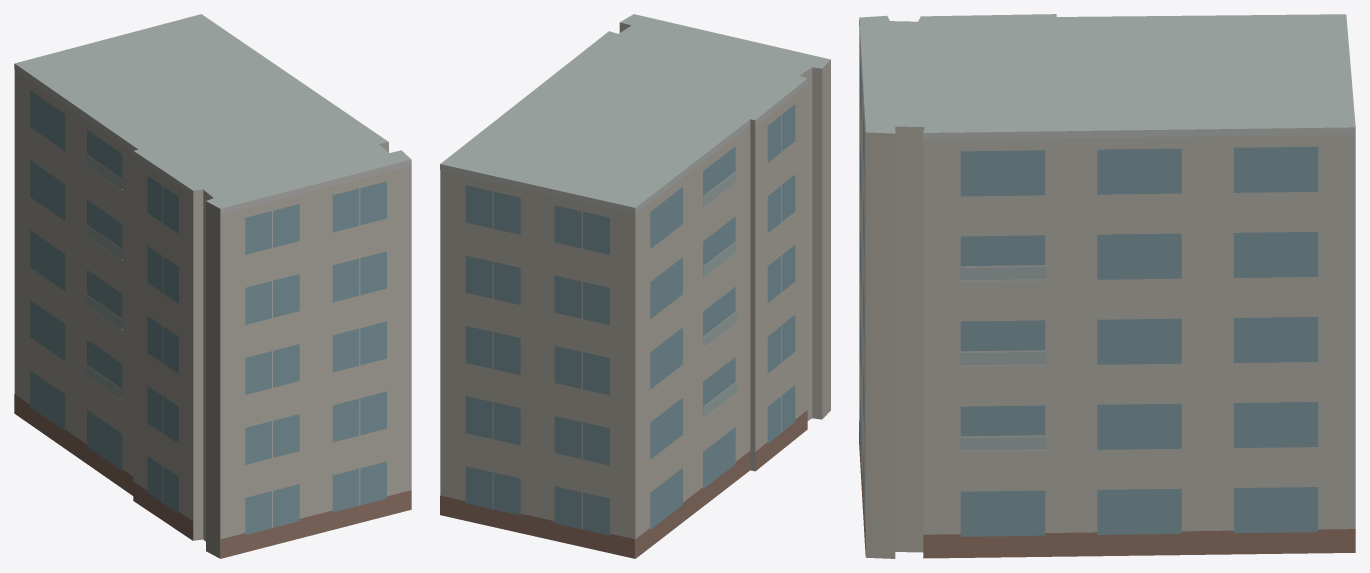
The model's file is survey-upis-33040605.glb.
The picture shows the model from 3 angles, left to right: view 1: azimuth 30°, elevation 25°; view 2: azimuth 150°, elevation 25°; view 3: azimuth 270°, elevation 25°; orthographic projection. The views are drawn at different scales.
Visible parts, largest first — view 1: survey-upis-33040605.tmp; view 2: survey-upis-33040605.tmp; view 3: survey-upis-33040605.tmp.
Boxes of the visible parts, x1,y1,x2,y2 form: survey-upis-33040605.tmp: (14,14,411,558); survey-upis-33040605.tmp: (440,14,830,558); survey-upis-33040605.tmp: (859,14,1355,558).
Size of the model in its own units: 8.5 by 14.1 by 14.93.
